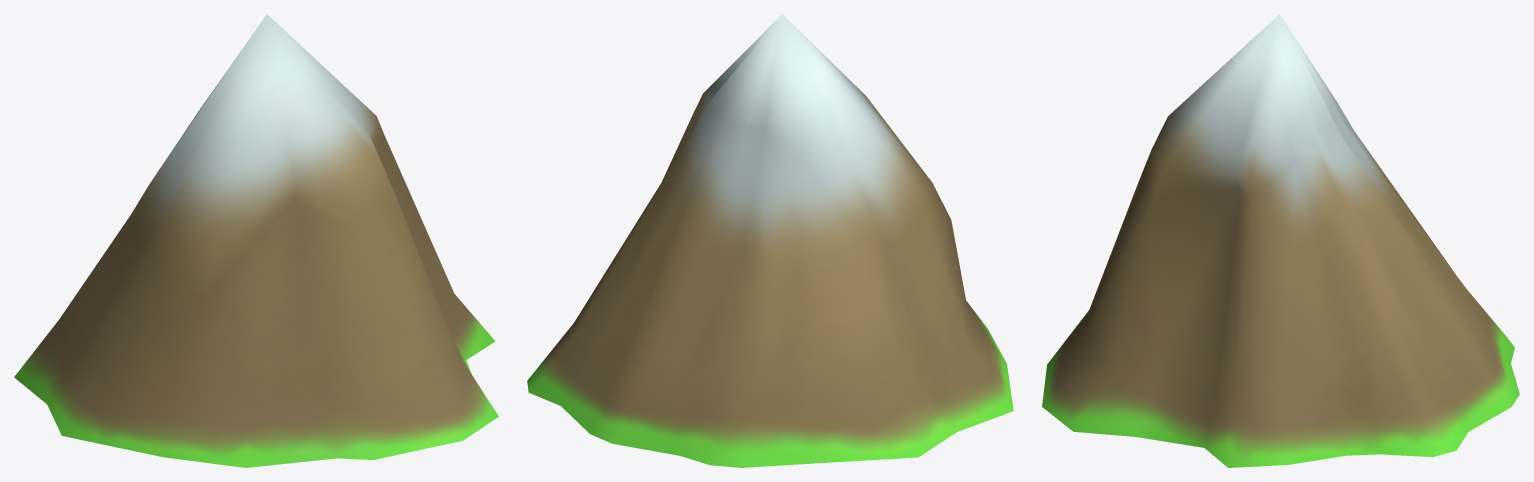
The model's file is Mount.fbx.
3 renders of one model, left to right at view 1: azimuth 30°, elevation 25°; view 2: azimuth 150°, elevation 25°; view 3: azimuth 270°, elevation 25°, orthographic.
Parts seen in each view (by area): view 1: Окружность; view 2: Окружность; view 3: Окружность.
Boxes of the visible parts, x1,y1,x2,y2 form: Окружность: (14, 14, 498, 467); Окружность: (527, 14, 1013, 467); Окружность: (1042, 14, 1519, 467).
Bounding box in the file's own units: 205 × 166 × 202.
1 material, 1 textured.
